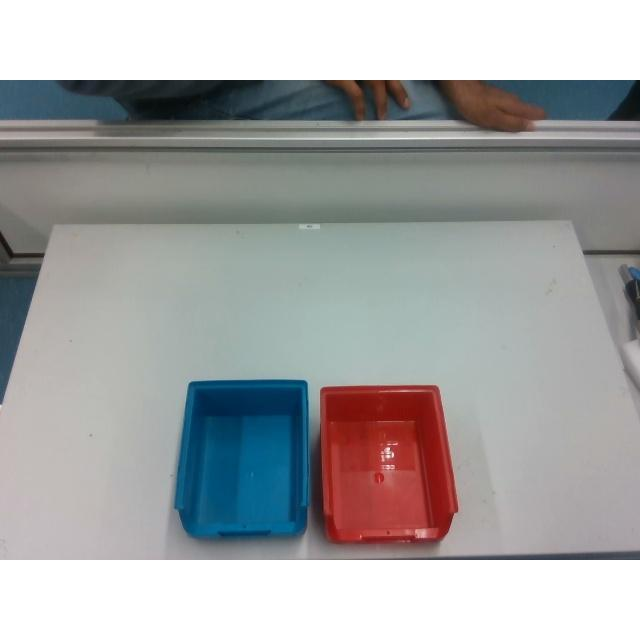container_box_blue: (174, 379, 310, 536)
container_box_red: (319, 385, 456, 541)
